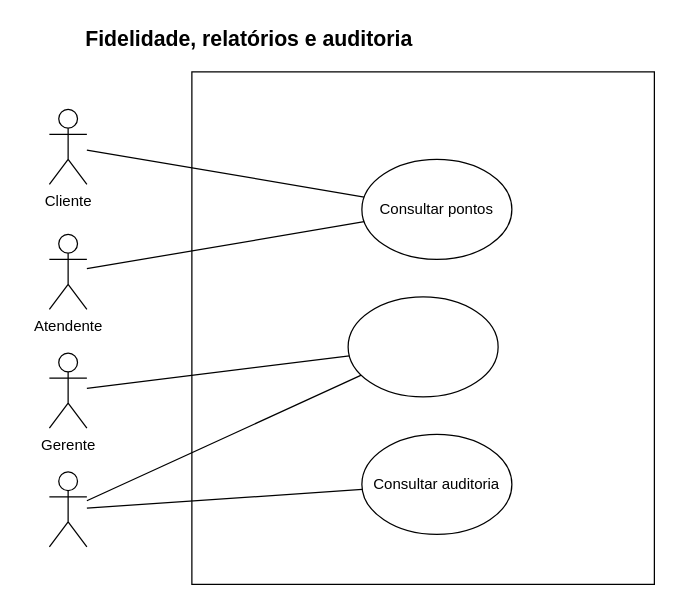
Some shapes in this 676 by 606 pixel diagram are drawn without their labels. Each missing label, with the box of its shape:
Administrador: (48, 471, 87, 547)
Consultar relatórios gerenciais: (347, 296, 498, 397)
